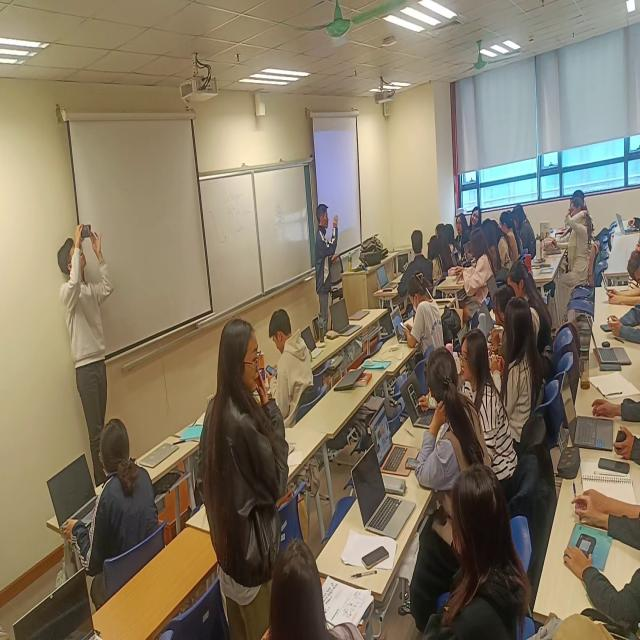raise_head: (411, 459, 535, 640), (415, 341, 505, 541), (269, 533, 371, 640), (488, 290, 549, 444), (490, 281, 538, 386), (425, 232, 449, 281)
read: (453, 223, 495, 314)
stand: (191, 315, 295, 640), (50, 208, 138, 504), (309, 197, 346, 350)
using_computer: (43, 407, 173, 602), (505, 261, 558, 362), (615, 206, 640, 239)
using_phone: (256, 298, 323, 428), (400, 272, 457, 385), (600, 264, 640, 309)
